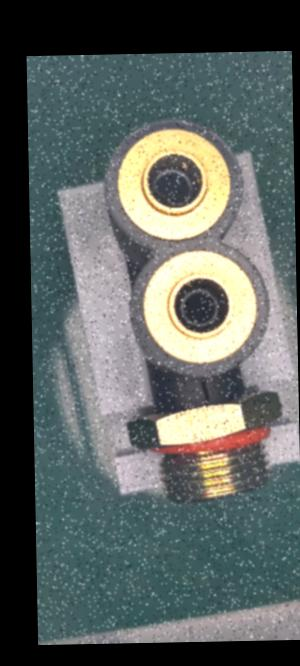craze: (198, 374, 212, 404)
off-centered: (145, 163, 203, 208)
